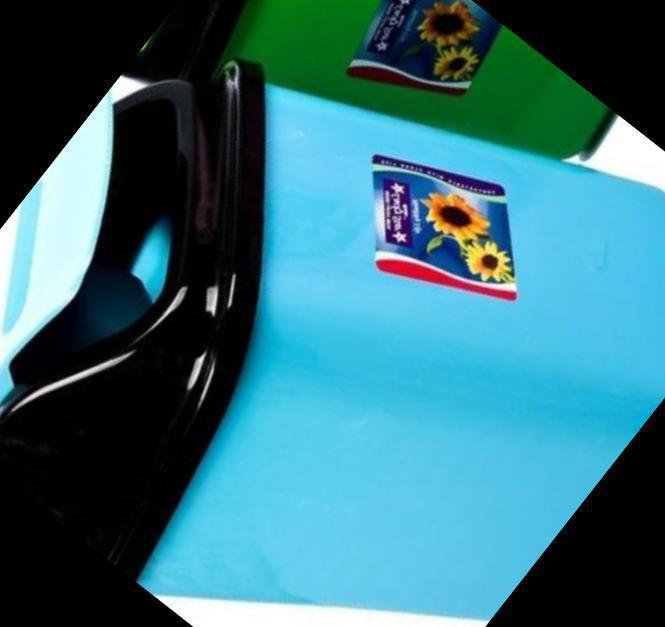Bote de Basura: (0, 0, 665, 627), (58, 0, 665, 322)
